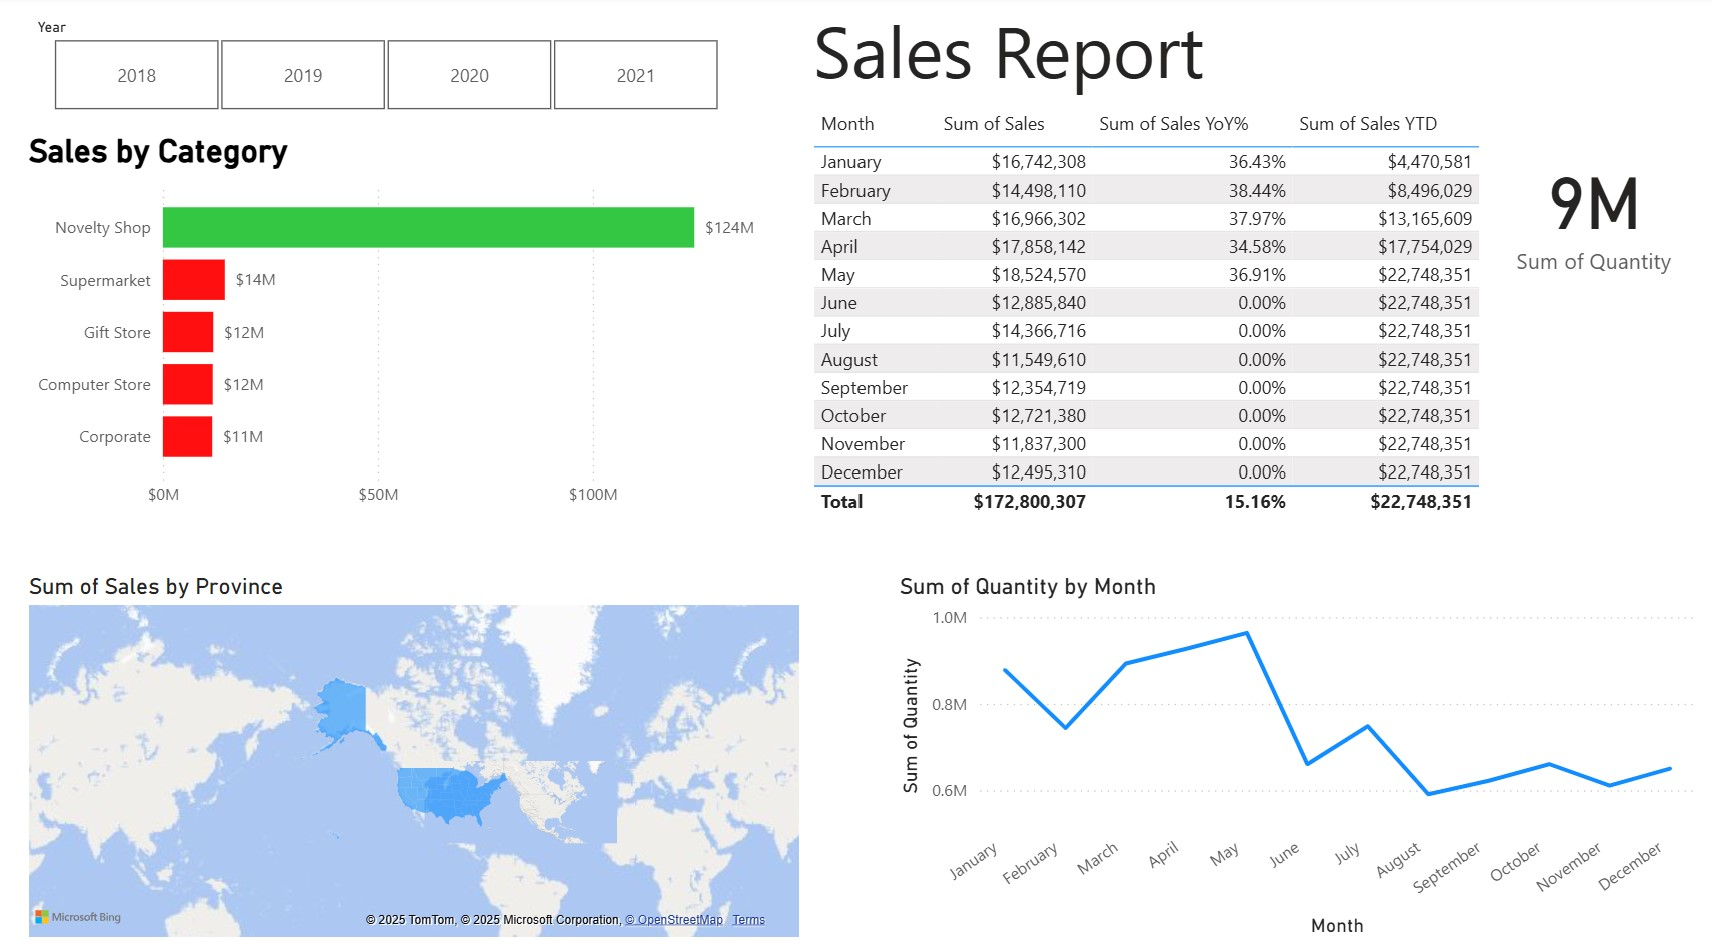

The page's visual inventory and layout, read from the dashboard file:
{"tool":"powerbi","page":{"name":"Page 1","canvas":[1280,720],"ordinal":0},"visuals":[{"type":"clusteredBarChart","title":"Sales by Category","fields":{"Category":["MasterCustomer.CustomerCategoryName"],"Y":["Sum(InvoiceData.Sales)"]},"box":[19.4,102.9,584.3,287.7],"z":0},{"type":"slicer","fields":{"Values":["InvoiceData.Date.Variation.Date Hierarchy.Year"]},"box":[17.9,13,544.2,79.6],"z":1000},{"type":"tableEx","fields":{"Values":["InvoiceData.Date.Variation.Date Hierarchy.Month","Sum(InvoiceData.Sales)","InvoiceData.Sum of Sales YoY%","InvoiceData.Sum of Sales YTD"]},"box":[603.6,80.4,506.5,324.5],"z":2000},{"type":"lineChart","fields":{"Y":["Sum(InvoiceData.Quantity)"],"Category":["InvoiceData.Date.Variation.Date Hierarchy.Month"]},"box":[667.8,430.8,602.2,275.8],"z":3000},{"type":"textbox","box":[603.6,0,391.3,84.9],"z":4000},{"type":"card","fields":{"Values":["Sum(InvoiceData.Quantity)"]},"box":[1110.1,95.5,159.2,128.9],"z":6000},{"type":"filledMap","fields":{"Category":["MasterCustomer.Province"]},"box":[19,431,584,276],"z":6001}]}

Visuals, with their boxes in screenshot pixels (x1, y1, x2, y2), scaled from the page's 1280x720 canvas onto the 1712x948 screenshot:
"Sales by Category" clusteredBarChart: box(26, 135, 807, 514)
slicer - InvoiceData.Date.Variation.Date Hierarchy.Year: box(24, 17, 752, 122)
tableEx - InvoiceData.Date.Variation.Date Hierarchy.Month x Sum(InvoiceData.Sales): box(807, 106, 1485, 533)
lineChart - Sum(InvoiceData.Quantity) x InvoiceData.Date.Variation.Date Hierarchy.Month: box(893, 567, 1699, 930)
textbox: box(807, 0, 1331, 112)
card - Sum(InvoiceData.Quantity): box(1485, 126, 1698, 295)
filledMap - MasterCustomer.Province: box(25, 567, 807, 931)
